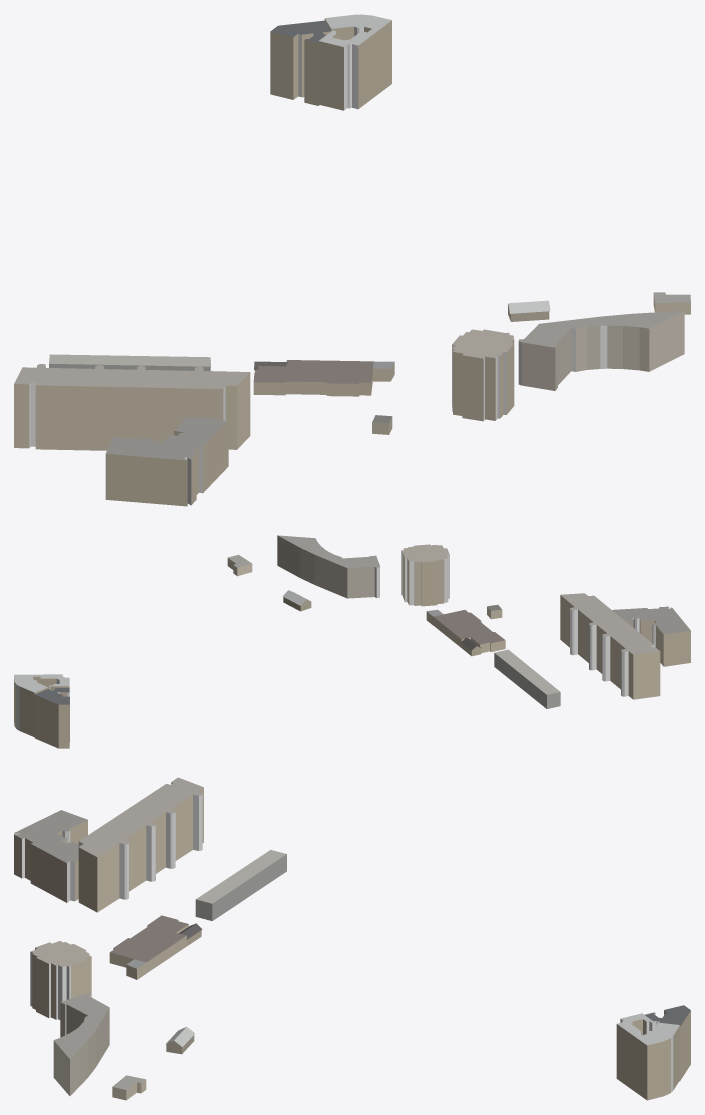
3 views of the same model, one above another, from view 1: azimuth 30°, elevation 25°; view 2: azimuth 150°, elevation 25°; view 3: azimuth 270°, elevation 25° (orthographic). The views are drawn at different scales.
Visible parts, largest first — view 1: tuile; view 2: tuile; view 3: tuile.
Boxes of the visible parts, box(x1,y1,x2,y2) form: tuile: box(14, 14, 690, 506); tuile: box(14, 535, 690, 748); tuile: box(14, 777, 690, 1100).
Bounding box in the file's own units: 261 × 30.37 × 272.
